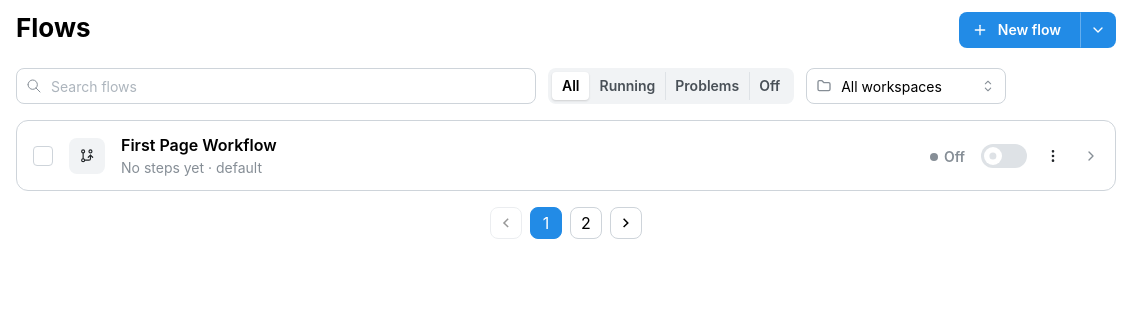
Test: workflow list selection › is cleared when the search changes
Click the checkbox named "Select First Page Workflow": [43, 156] box [33, 146, 53, 166]
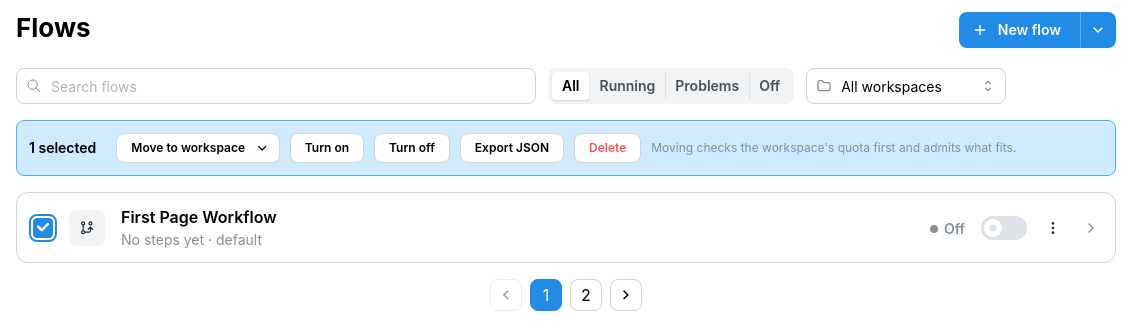
Now the element "1 selected" is shown, box [16, 120, 1116, 176]
In the search field with placeholder "Search flows": [276, 86] box [16, 68, 536, 104], type "matched"
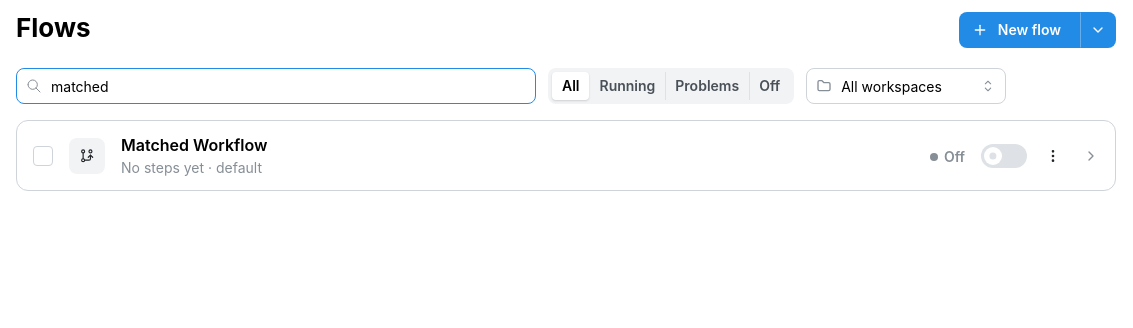
Now the text "Matched Workflow" is shown, box [121, 133, 267, 158]
Now the text "selected" is gone
